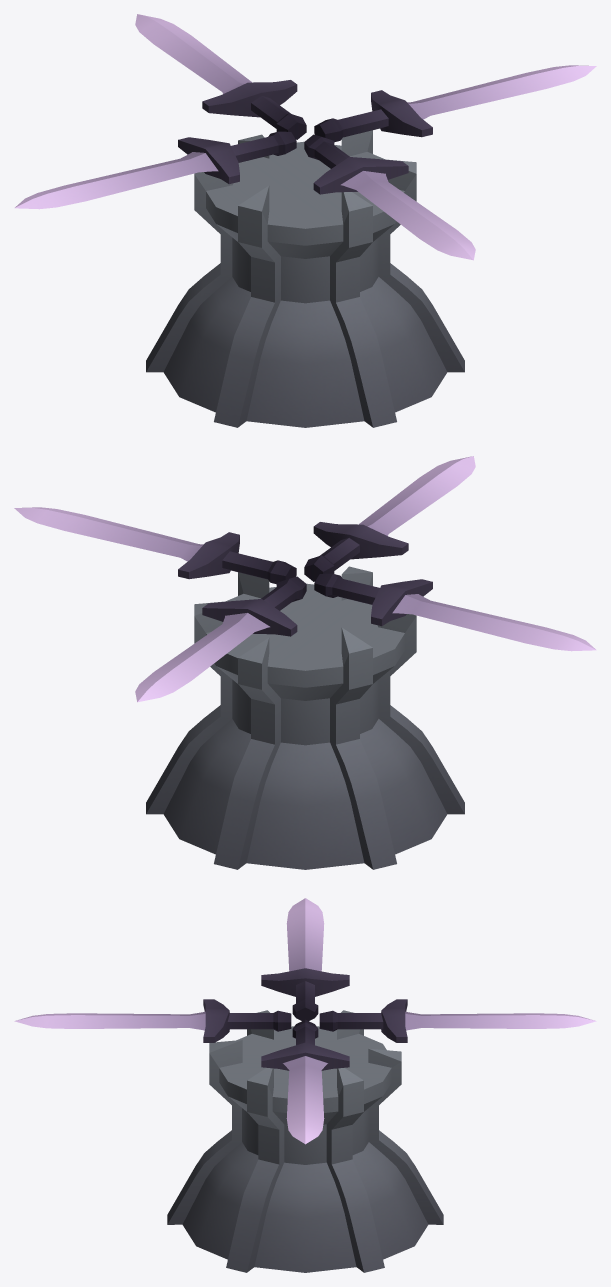
Rendered from SM_Tower_Sword.fbx.
The picture shows the model from 3 angles, top to bottom: view 1: azimuth 30°, elevation 25°; view 2: azimuth 150°, elevation 25°; view 3: azimuth 270°, elevation 25°; orthographic projection. The views are drawn at different scales.
Visible parts, largest first — view 1: Base_GEO, Sword_GEO; view 2: Base_GEO, Sword_GEO; view 3: Base_GEO, Sword_GEO.
Boxes of the visible parts, bbox=[...] form: Base_GEO: bbox=[146, 130, 464, 427]; Sword_GEO: bbox=[14, 14, 596, 260]; Base_GEO: bbox=[146, 566, 464, 869]; Sword_GEO: bbox=[14, 456, 596, 702]; Base_GEO: bbox=[167, 1010, 443, 1272]; Sword_GEO: bbox=[14, 898, 596, 1144].
Size of the model in its own units: 259 by 103 by 259.
